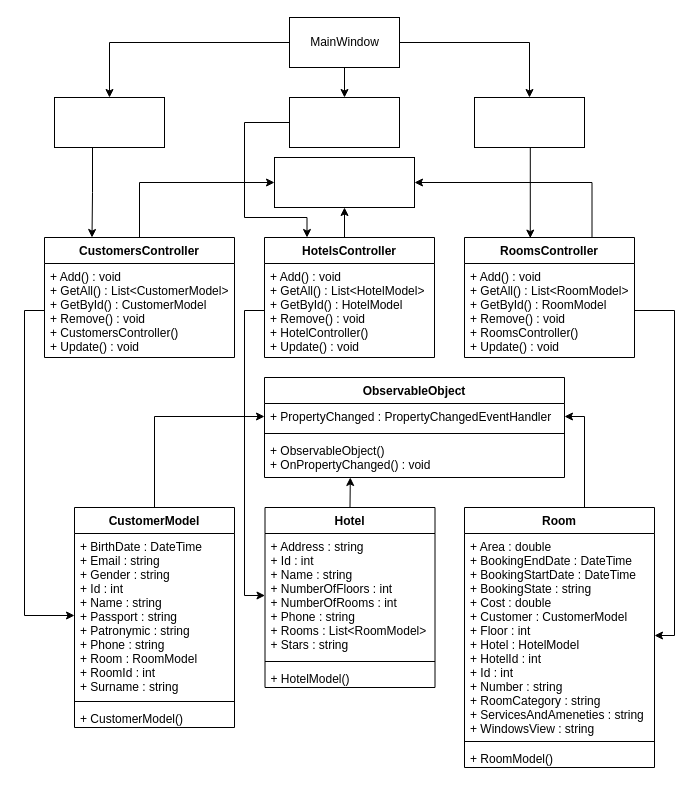
Some shapes in this 700 by 788 pixel diagram are drawn without their labels. Here are the shapes that lost their labels. From the top down, the centre of each, then its label:
At point (109, 122): "CustomersView".
At point (344, 122): "HotelView".
At point (529, 122): "RoomsView".
At point (344, 182): "«interface» IController<TModel>".
